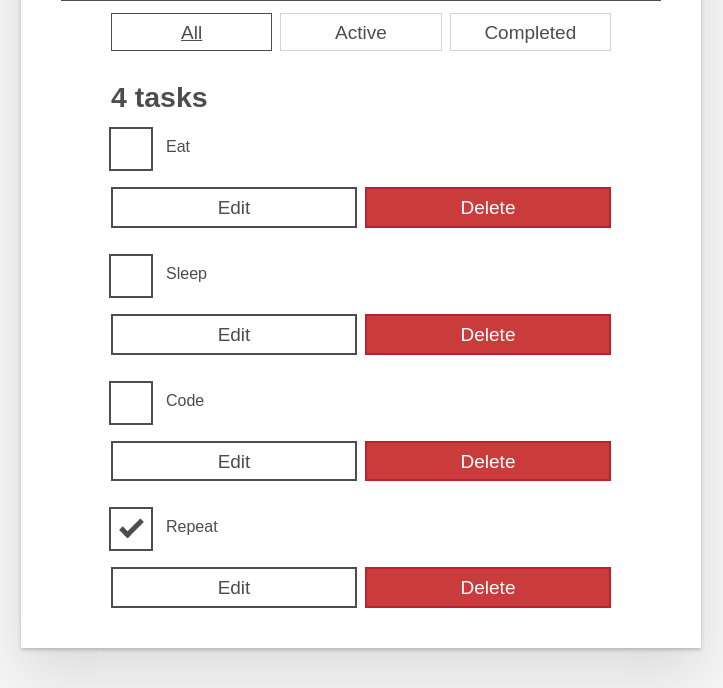
Test: Deleting a task › Removing a completed task from the todo list
(page scrolled)
Click the button with test id "delete-button" below "Repeat" at (488,588), box [365,567,611,608]
(page scrolled)
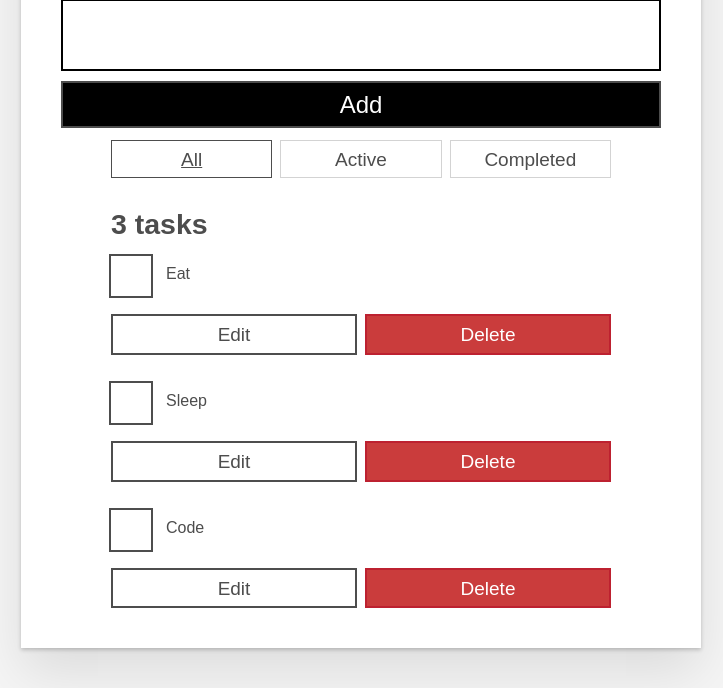
Check: the checkbox "Repeat" is gone
